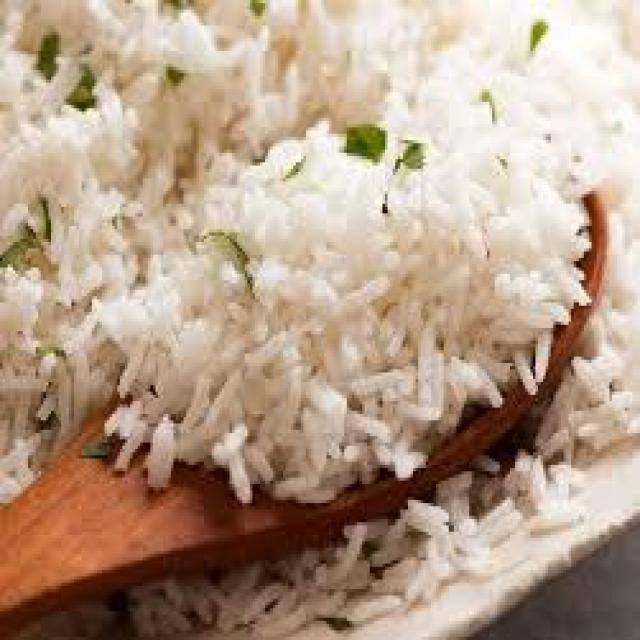White Rice: (2, 6, 640, 506)
